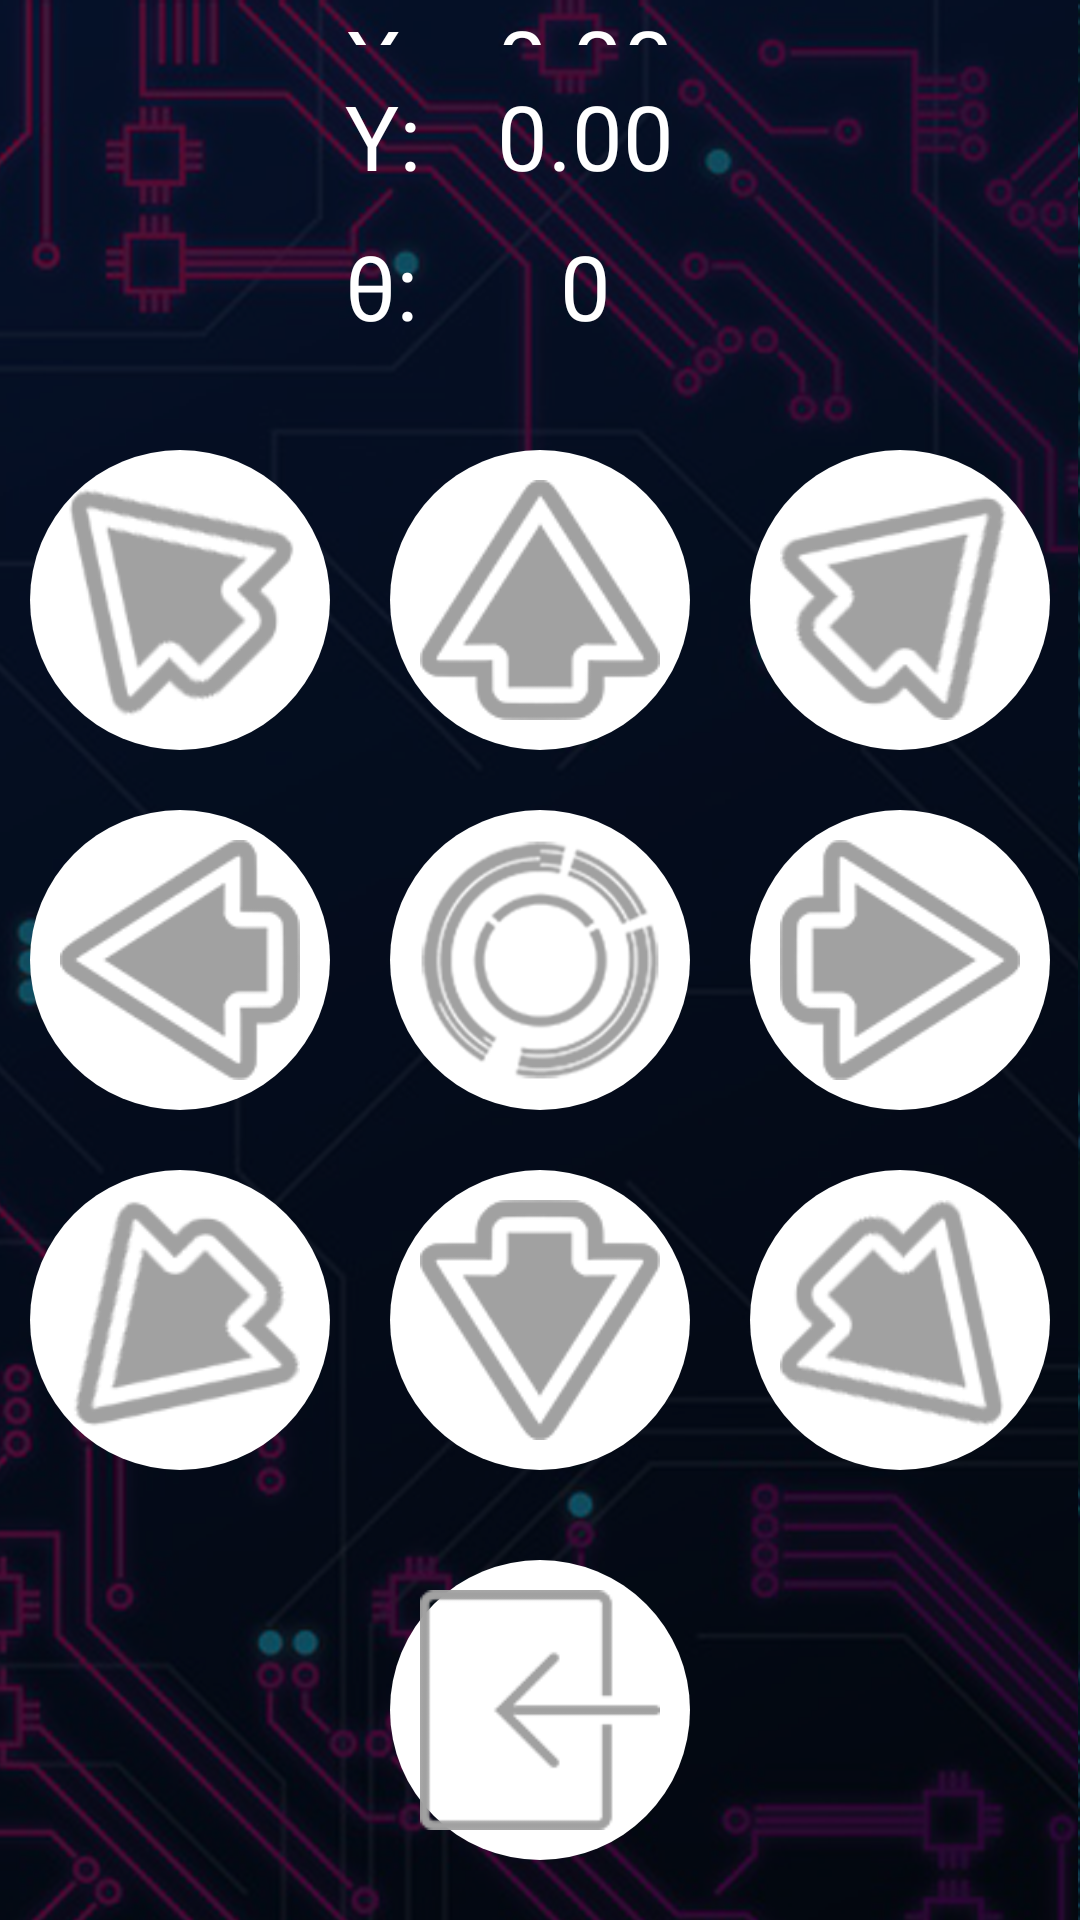

Point at icon controls on the screen. Image size 1080x1920, points as point (x, y).
down: point (540, 1320)
exit: point (540, 1710)
left: point (180, 960)
left bottom: point (180, 1320)
left up: point (180, 600)
right: point (900, 960)
right bottom: point (900, 1320)
right up: point (900, 600)
